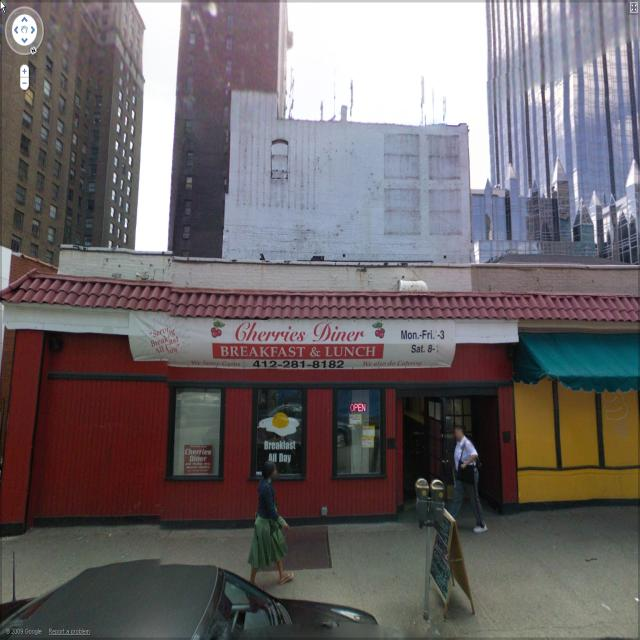b_1: (19, 257, 640, 524), (228, 120, 470, 249), (15, 1, 137, 240), (487, 4, 640, 181), (178, 0, 280, 248)
